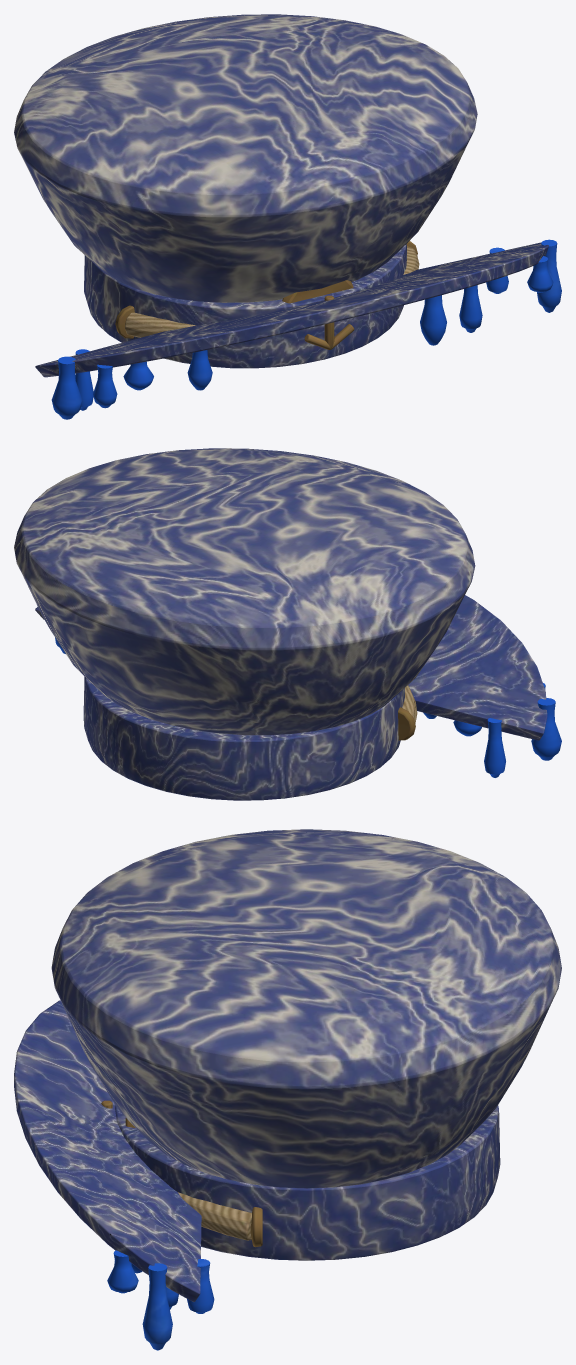
File: captains_hat.glb
3 renders of one model, top to bottom at view 1: azimuth 30°, elevation 25°; view 2: azimuth 150°, elevation 25°; view 3: azimuth 270°, elevation 25°, orthographic. The views are drawn at different scales.
Visible parts, largest first — view 1: captains_hat; view 2: captains_hat; view 3: captains_hat.
Boxes of the visible parts, x1,y1,x2,y2 form: captains_hat: [14, 14, 561, 419]; captains_hat: [14, 448, 561, 800]; captains_hat: [14, 829, 561, 1350].
Size of the model in its own units: 0.9788 by 0.46 by 0.7616.
1 material, 1 textured.
